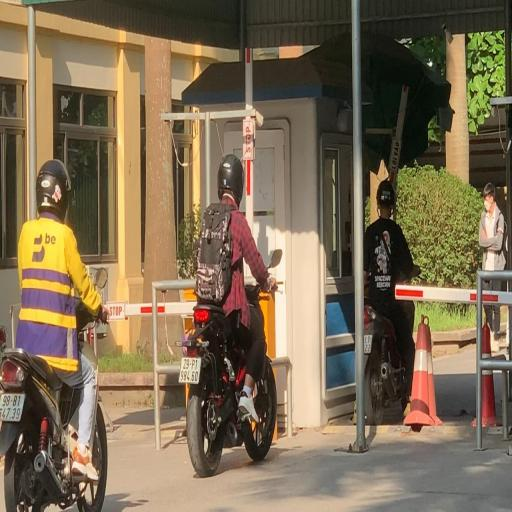bike: (0, 158, 111, 512), (178, 153, 282, 477), (362, 178, 422, 424)
numberplate: (0, 389, 26, 423), (179, 354, 201, 384)
with helmet: (38, 157, 72, 215), (218, 154, 244, 202), (377, 175, 396, 211)
